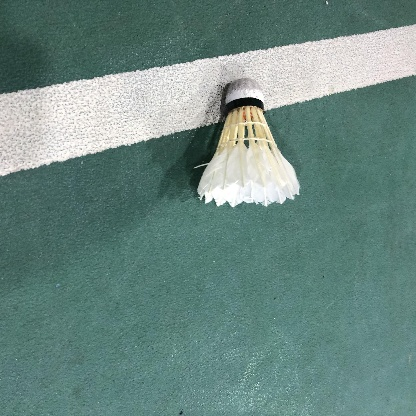ball_single: (197, 78, 300, 207)
